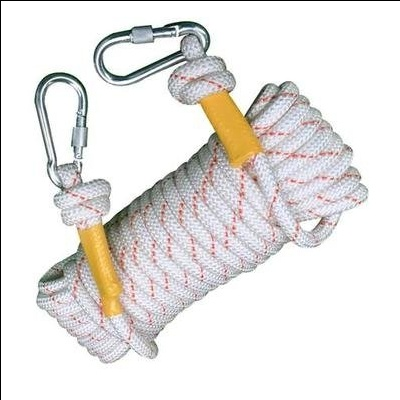9/可回收垃圾/绳子: (34, 20, 371, 364)
